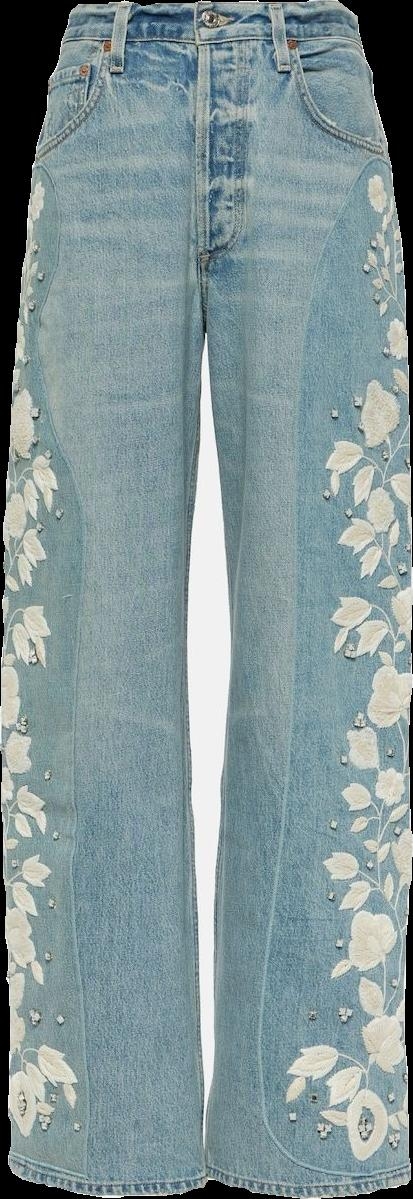Hemline: (7, 1158, 206, 1197), (203, 1168, 410, 1197)
Pantleg: (198, 0, 412, 1198), (1, 2, 205, 1194)
Waistline: (61, 28, 362, 51), (71, 0, 358, 17)
